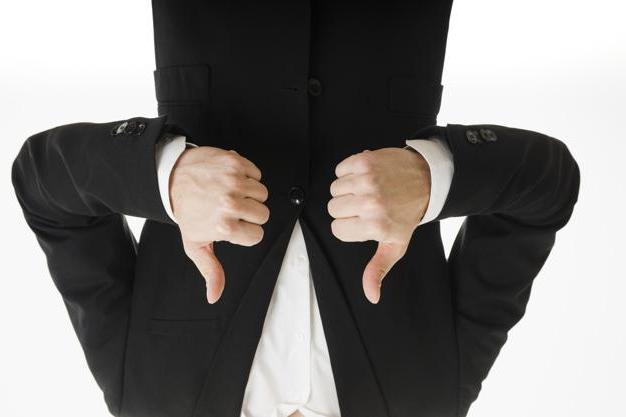thumbsdown: (195, 148, 271, 305), (327, 152, 403, 306)
